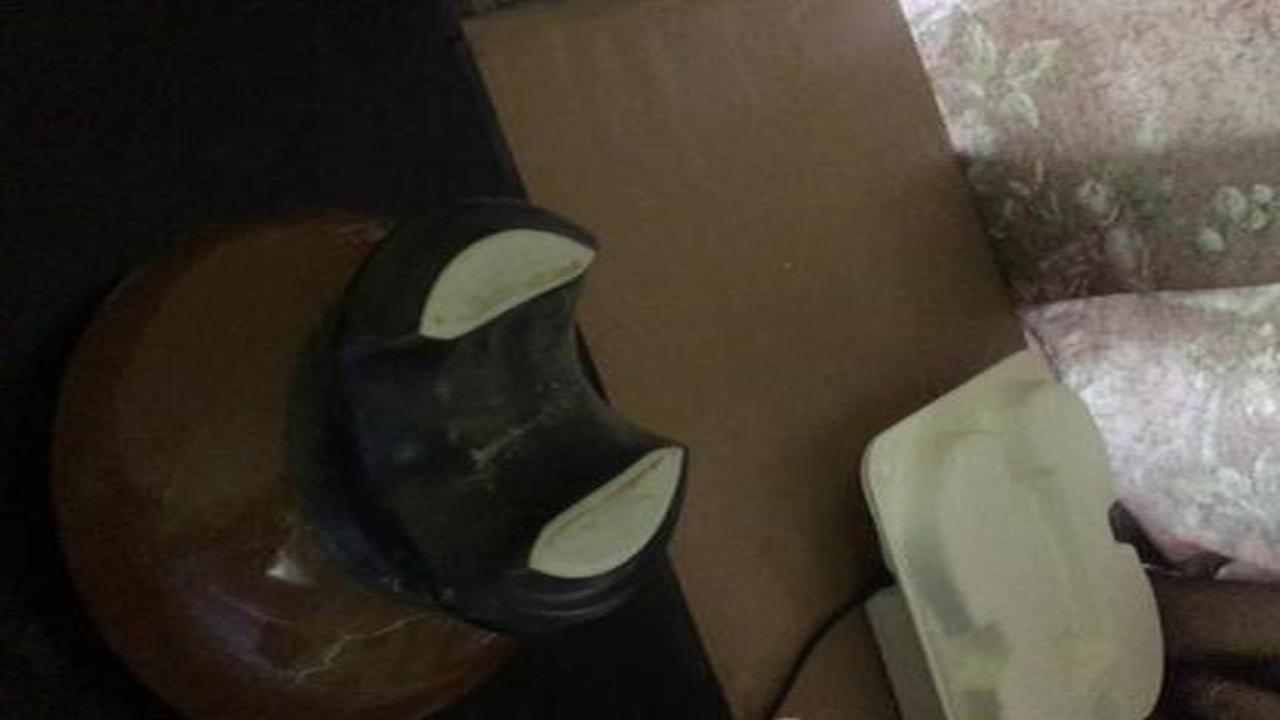insulator_pin: (37, 200, 714, 715)
